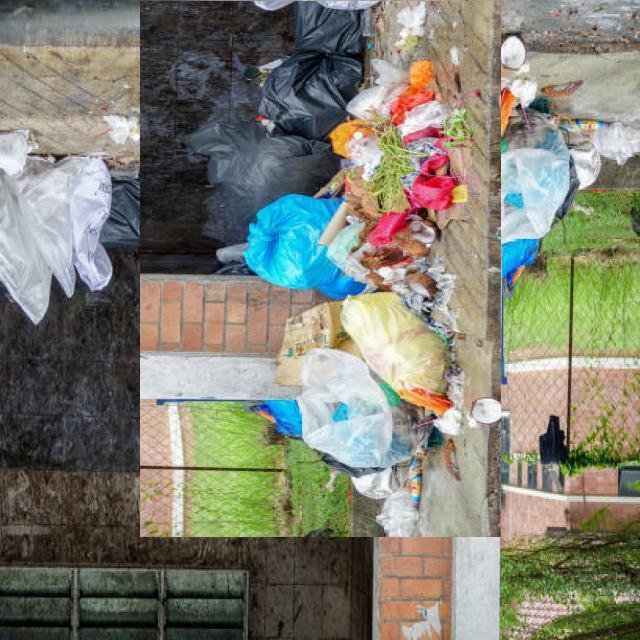Trashbag: (258, 50, 362, 144), (293, 3, 366, 56)
